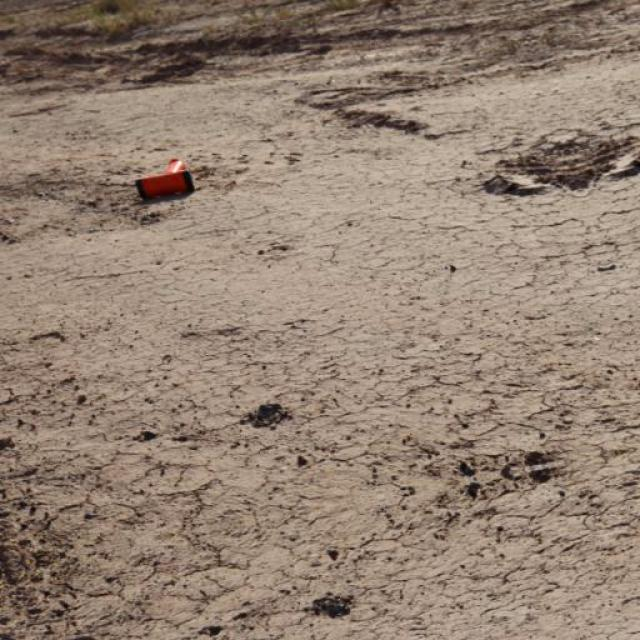mallet: (134, 156, 195, 199)
